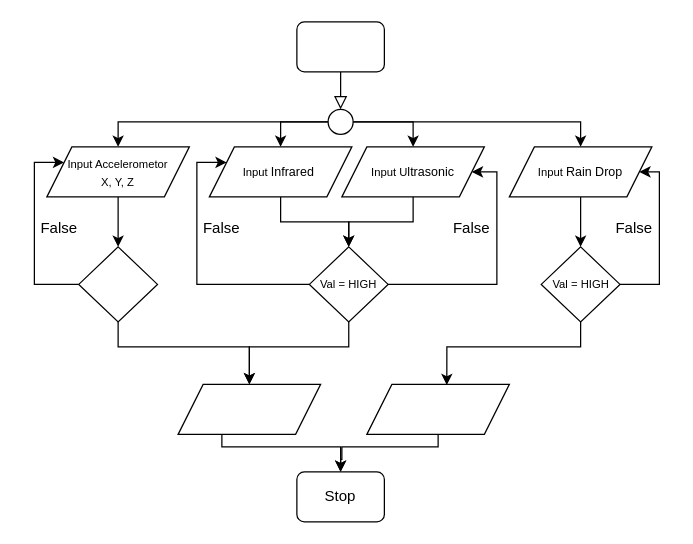
Image size: 693x544. Some labels were removed from this diagram. The centre of each missing label's shape, as x and y in pixels:
Output Buzzer: point (249, 408)
Output Speaker: point (437, 408)
Start: point (340, 46)
X, Y, Z not revert: point (118, 284)
